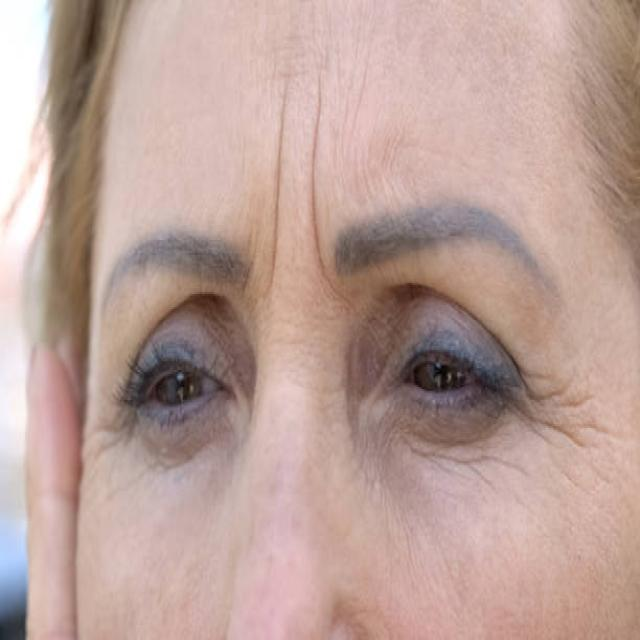Dry-Skin: (96, 17, 215, 301), (294, 2, 457, 196), (242, 93, 392, 269), (541, 120, 635, 355), (116, 555, 328, 640), (262, 411, 379, 551), (389, 495, 497, 640), (128, 438, 209, 589), (572, 312, 640, 482), (521, 529, 640, 616), (458, 0, 520, 123)
